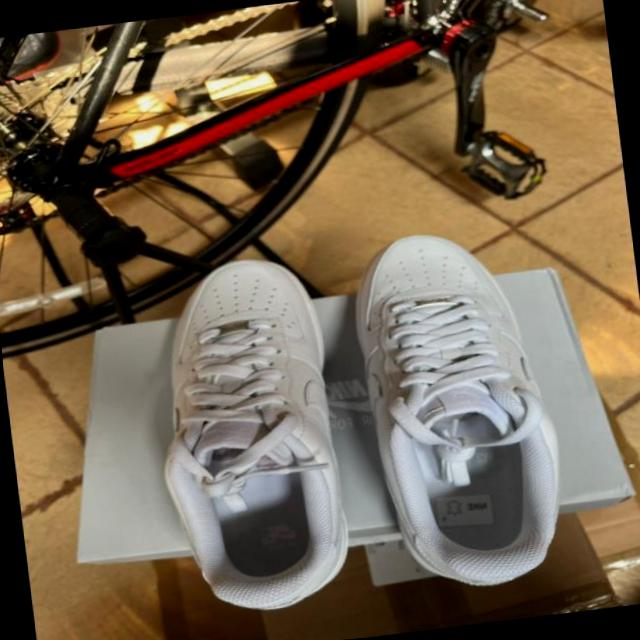nike_original_airforce: (336, 215, 584, 602), (134, 247, 363, 622)
